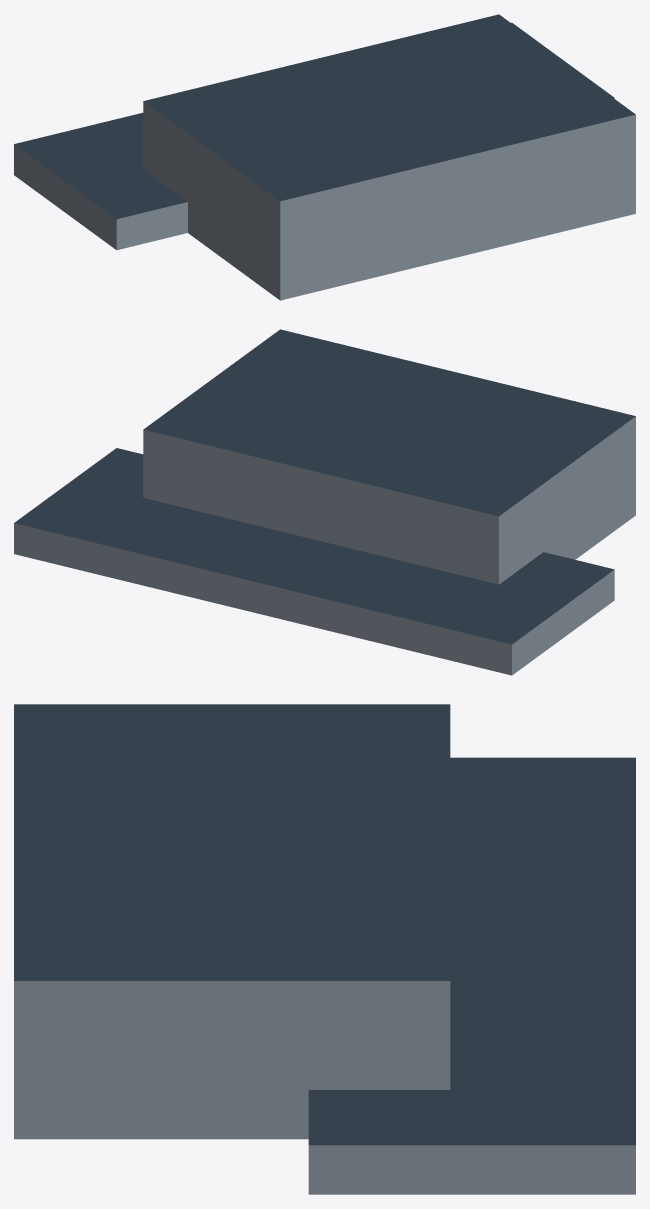
The model's file is innovation-low.glb.
The picture shows the model from 3 angles, top to bottom: view 1: azimuth 30°, elevation 25°; view 2: azimuth 150°, elevation 25°; view 3: azimuth 270°, elevation 25°; orthographic projection. The views are drawn at different scales.
Bounding box in the file's own units: 84 × 16 × 57.
